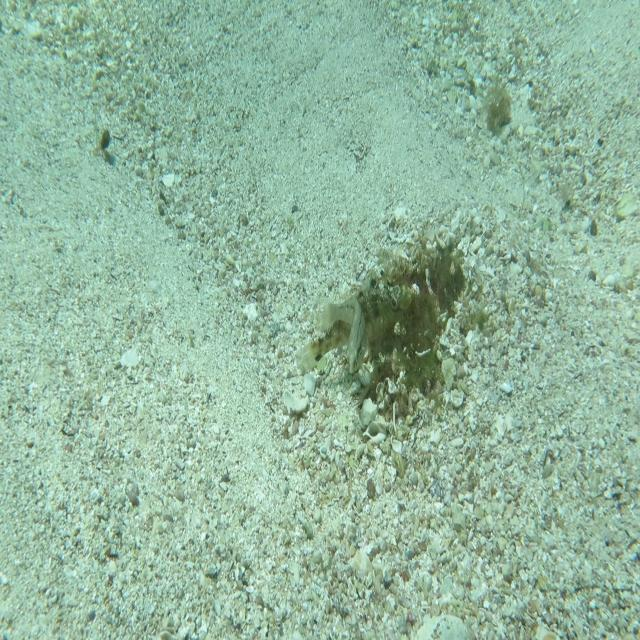LF: (294, 266, 414, 378)
female: (314, 292, 368, 375)
nest: (361, 231, 475, 422)
